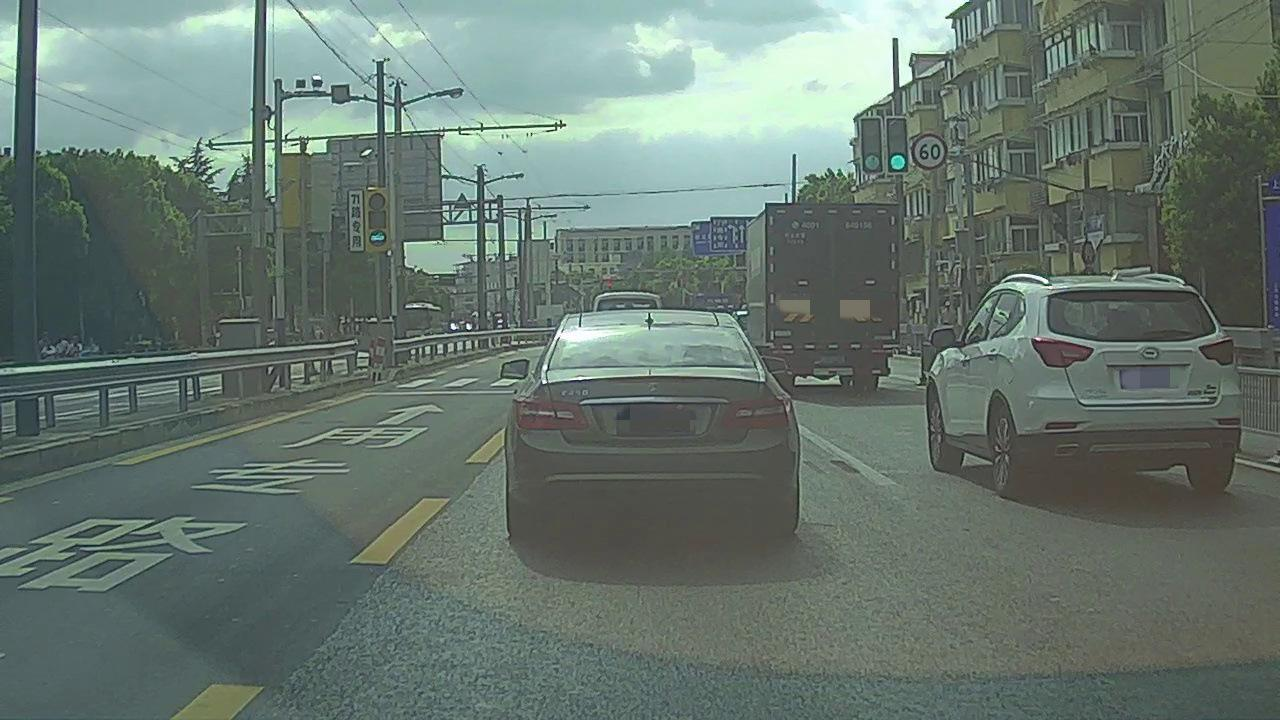traffic_light: (862, 119, 883, 174), (887, 117, 908, 172)
